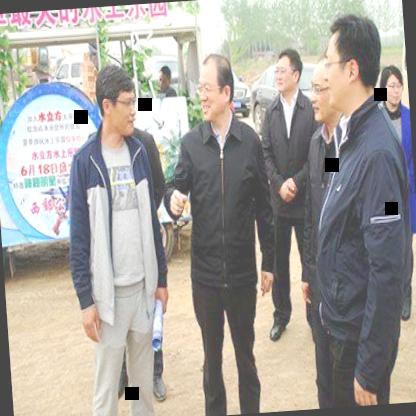head: (316, 7, 384, 113), (196, 44, 240, 128), (94, 62, 142, 137), (309, 54, 340, 128), (271, 45, 306, 99), (380, 62, 408, 112), (154, 61, 174, 92)
